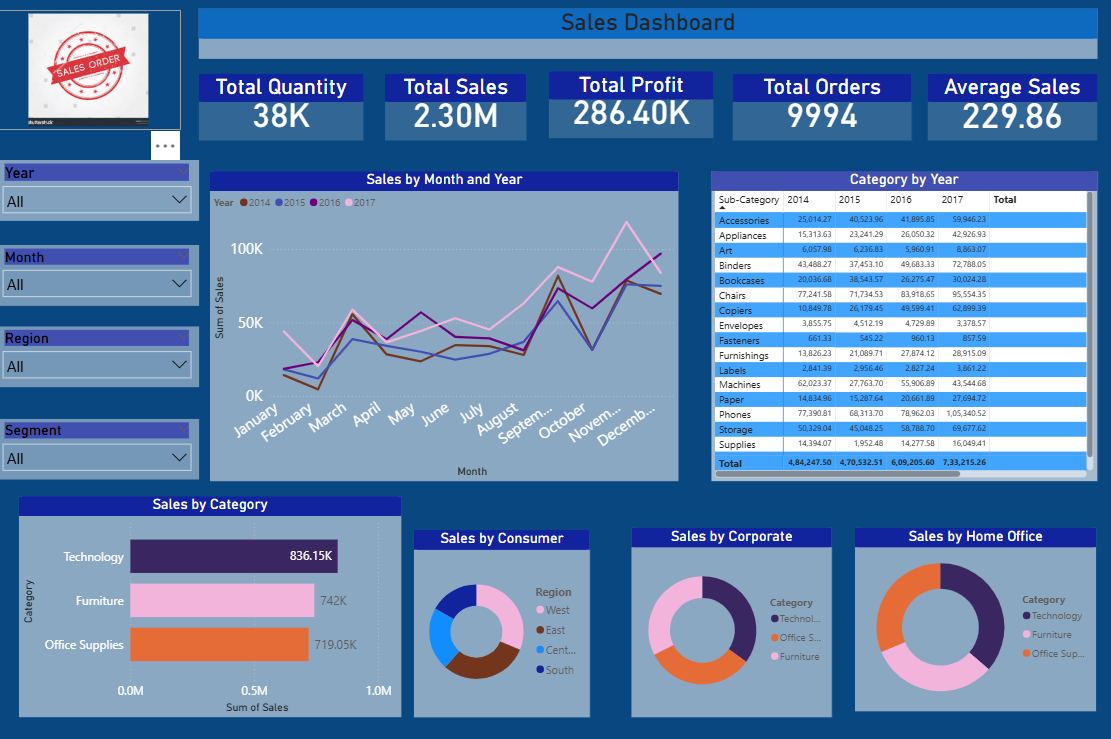

Layout of this report page (visuals, bound fields, positions):
{"tool":"powerbi","page":{"name":"Page 1","canvas":[1500,1000],"ordinal":0},"visuals":[{"type":"card","title":"Total Quantity","fields":{"Values":["Sum(Sample - Superstore.Quantity)"]},"box":[273.2,106.4,221.1,89.7],"z":0},{"type":"card","title":"Total Sales","fields":{"Values":["Sum(Sample - Superstore.Sales)"]},"box":[523.5,106.4,189.8,89.7],"z":1000},{"type":"card","title":"Total Profit","fields":{"Values":["Sum(Sample - Superstore.Profit)"]},"box":[742.5,102.2,221.1,89.7],"z":2000},{"type":"card","title":"Total Orders","fields":{"Values":["CountNonNull(Sample - Superstore.Order ID)"]},"box":[988.6,106.4,239.9,89.7],"z":3000},{"type":"card","title":"Average Sales","fields":{"Values":["Avg(Sample - Superstore.Sales)"]},"box":[1249.3,106.4,227.3,89.7],"z":4000},{"type":"lineChart","title":"Sales by Month and Year","fields":{"Category":["Sample - Superstore.Order Date.Variation.Date Hierarchy.Month"],"Y":["Sum(Sample - Superstore.Sales)"],"Series":["Sample - Superstore.Order Date.Variation.Date Hierarchy.Year"]},"box":[287.8,235.7,627.8,415.1],"z":5000},{"type":"pivotTable","title":"Category by Year","fields":{"Rows":["Sample - Superstore.Category","Sample - Superstore.Sub-Category"],"Columns":["Sample - Superstore.Order Date.Variation.Date Hierarchy.Year"],"Values":["Sum(Sample - Superstore.Sales)"]},"box":[959.4,235.7,517.3,415.1],"z":6000},{"type":"barChart","title":"Sales by Category","fields":{"Y":["Sum(Sample - Superstore.Sales)"],"Category":["Sample - Superstore.Category"]},"box":[31.3,671.6,513.1,296.2],"z":7000},{"type":"donutChart","title":"Sales by Consumer","fields":{"Y":["Sum(Sample - Superstore.Sales)"],"Category":["Sample - Superstore.Region"]},"box":[561,717.5,269.1,250.3],"z":8000},{"type":"donutChart","title":"Sales by Corporate","fields":{"Category":["Sample - Superstore.Category"],"Y":["Sum(Sample - Superstore.Sales)"]},"box":[853,713.3,269.1,254.5],"z":9000},{"type":"donutChart","title":"Sales by Home Office","fields":{"Category":["Sample - Superstore.Category"],"Y":["Sum(Sample - Superstore.Sales)"]},"box":[1153.4,713.3,323.3,246.1],"z":10000},{"type":"slicer","fields":{"Values":["Sample - Superstore.Order Date.Variation.Date Hierarchy.Year"]},"box":[0,221.1,273.2,81.3],"z":11000},{"type":"slicer","fields":{"Values":["Sample - Superstore.Order Date.Variation.Date Hierarchy.Month"]},"box":[0,335.8,273.2,81.3],"z":12000},{"type":"slicer","fields":{"Values":["Sample - Superstore.Segment"]},"box":[0,567.3,273.2,81.3],"z":13000},{"type":"slicer","fields":{"Values":["Sample - Superstore.Region"]},"box":[0,444.3,273.2,81.3],"z":14000},{"type":"image","box":[0,16.7,273.2,175.2],"z":15000},{"type":"card","title":"Last Refresh Date","fields":{"Values":["Min(Last Refresh Date.Last Reresh Date)"]},"box":[1090.8,0,385.9,85.5],"z":16000},{"type":"textbox","title":"Sales Dashboard","box":[273.2,18.8,798.8,66.7],"z":17000}]}

Visuals, with their boxes in screenshot pixels (x1, y1, x2, y2), scaled from the page's 1500x1000 canvas onto the 1111x739 screenshot:
"Total Quantity" card: Rect(202, 79, 366, 145)
"Total Sales" card: Rect(388, 79, 528, 145)
"Total Profit" card: Rect(550, 76, 714, 142)
"Total Orders" card: Rect(732, 79, 910, 145)
"Average Sales" card: Rect(925, 79, 1094, 145)
"Sales by Month and Year" lineChart: Rect(213, 174, 678, 481)
"Category by Year" pivotTable: Rect(711, 174, 1094, 481)
"Sales by Category" barChart: Rect(23, 496, 403, 715)
"Sales by Consumer" donutChart: Rect(416, 530, 615, 715)
"Sales by Corporate" donutChart: Rect(632, 527, 831, 715)
"Sales by Home Office" donutChart: Rect(854, 527, 1094, 709)
slicer - Sample - Superstore.Order Date.Variation.Date Hierarchy.Year: Rect(0, 163, 202, 223)
slicer - Sample - Superstore.Order Date.Variation.Date Hierarchy.Month: Rect(0, 248, 202, 308)
slicer - Sample - Superstore.Segment: Rect(0, 419, 202, 479)
slicer - Sample - Superstore.Region: Rect(0, 328, 202, 388)
image: Rect(0, 12, 202, 142)
"Last Refresh Date" card: Rect(808, 0, 1094, 63)
"Sales Dashboard" textbox: Rect(202, 14, 794, 63)
